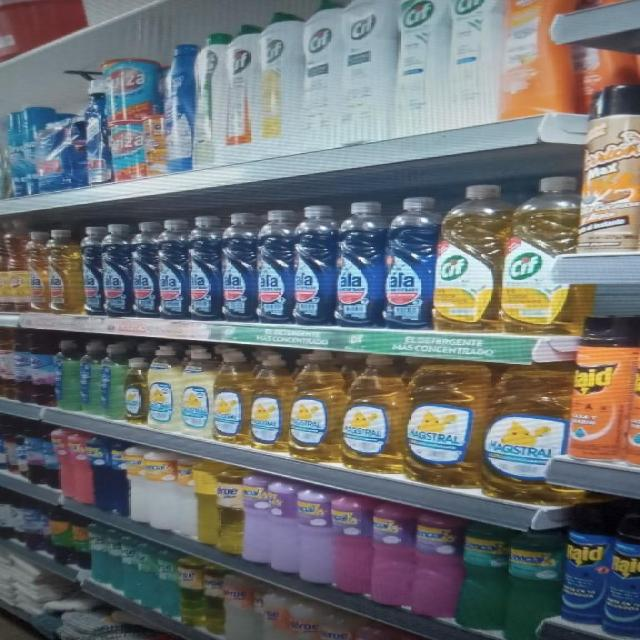ala_conc_azul: (384, 195, 434, 331), (336, 202, 383, 330), (294, 203, 334, 327), (257, 208, 293, 325), (222, 212, 256, 324), (188, 214, 220, 322), (158, 219, 188, 320), (101, 222, 130, 318), (131, 220, 157, 318), (81, 224, 101, 317)
cif_conc_bot_amarilla: (503, 176, 574, 336), (436, 182, 500, 334)
esencial: (413, 510, 459, 619)
heroe: (223, 574, 256, 640), (259, 590, 288, 640), (288, 600, 318, 640), (319, 609, 352, 640)
magistral_con_amarillo: (485, 362, 567, 504), (407, 360, 482, 489), (342, 354, 404, 474), (290, 351, 341, 463), (250, 351, 288, 452), (213, 348, 248, 446), (125, 354, 146, 424)
magistral_con_crema: (180, 346, 212, 438), (148, 344, 179, 430)
